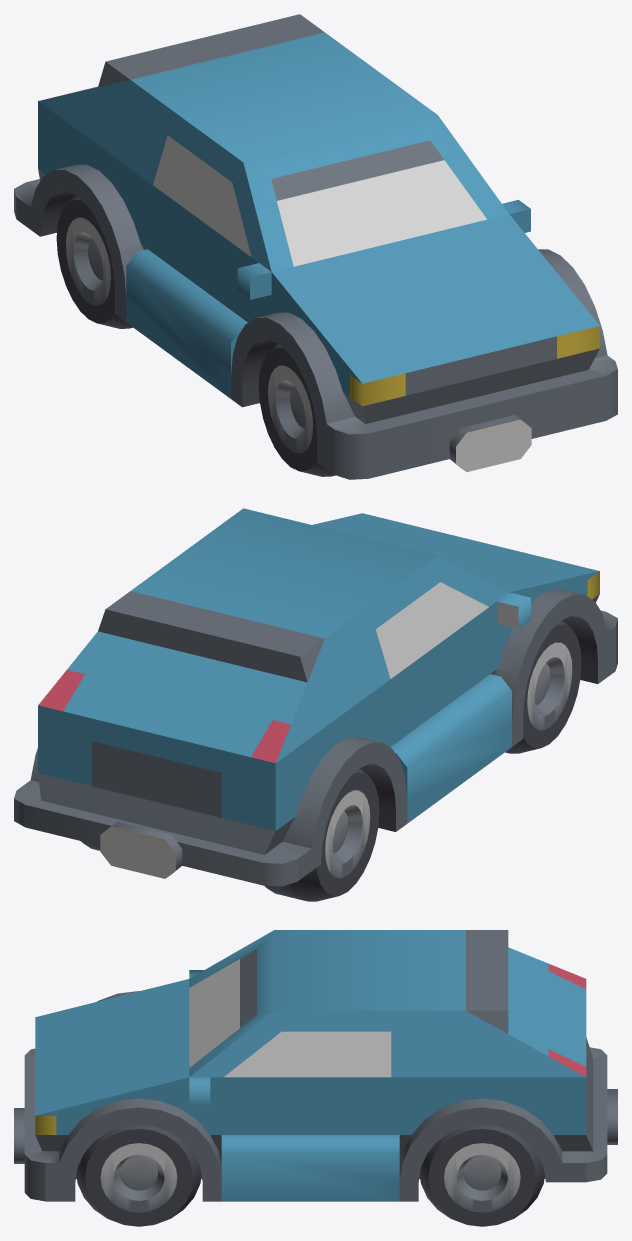
File: car-b.glb
3 renders of one model, top to bottom at view 1: azimuth 30°, elevation 25°; view 2: azimuth 150°, elevation 25°; view 3: azimuth 270°, elevation 25°, orthographic. The views are drawn at different scales.
Parts seen in each view (by area): view 1: car-b; view 2: car-b; view 3: car-b.
Part boxes in pixels (x1,y1,x2,y2): car-b: (14, 14, 617, 479); car-b: (14, 508, 617, 901); car-b: (14, 930, 617, 1226).
Size of the model in its own units: 0.455 by 0.3849 by 0.9975.
